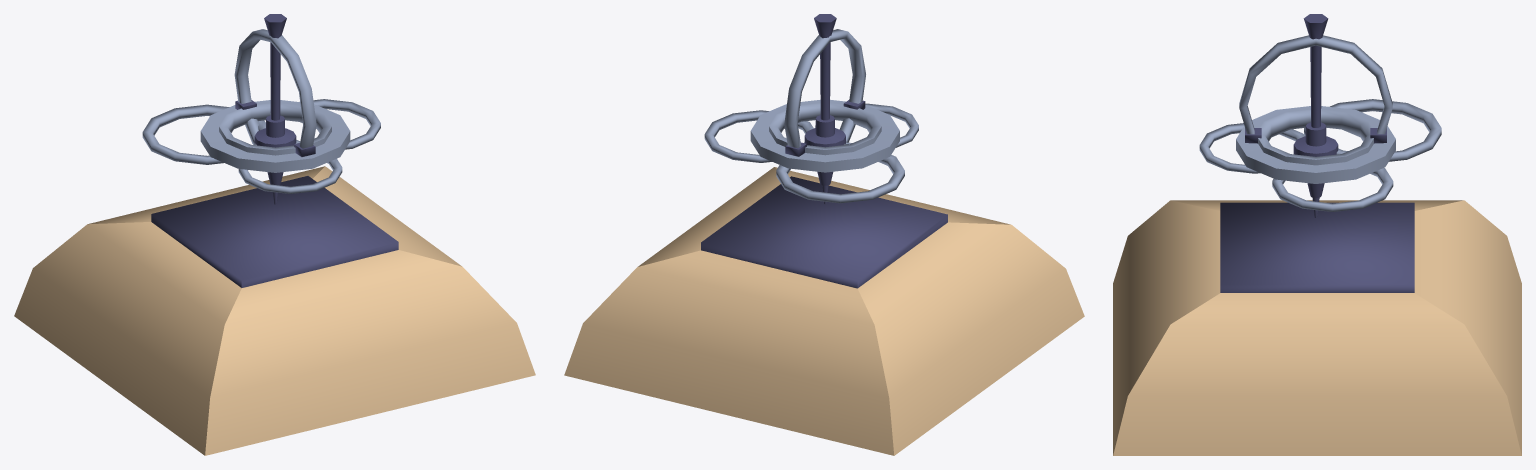
File: Mesh_SpinningTop.fbx
3 renders of one model, left to right at view 1: azimuth 30°, elevation 25°; view 2: azimuth 150°, elevation 25°; view 3: azimuth 270°, elevation 25°, orthographic. The views are drawn at different scales.
Parts seen in each view (by area): view 1: Socle, Toupie; view 2: Socle, Toupie; view 3: Socle, Toupie.
Boxes of the visible parts, x1=… form: Socle: x1=14, y1=166, x2=535, y2=455; Toupie: x1=142, y1=14, x2=380, y2=204; Socle: x1=564, y1=167, x2=1084, y2=455; Toupie: x1=704, y1=14, x2=918, y2=204; Socle: x1=1113, y1=200, x2=1521, y2=455; Toupie: x1=1199, y1=14, x2=1441, y2=217.
Size of the model in its own units: 0.3656 by 0.3463 by 0.3656.
